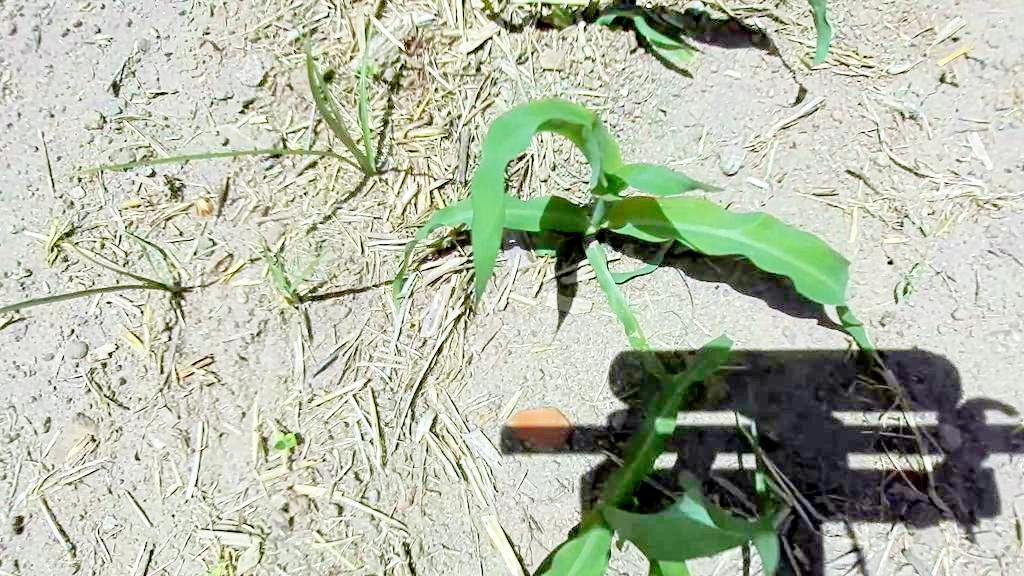BroWeed: (890, 253, 931, 305), (266, 423, 302, 459), (356, 57, 385, 80), (212, 557, 230, 576)
Maize: (388, 66, 922, 452), (541, 334, 777, 576)
NarWeed: (74, 16, 378, 184), (0, 216, 171, 310), (251, 241, 323, 301)
